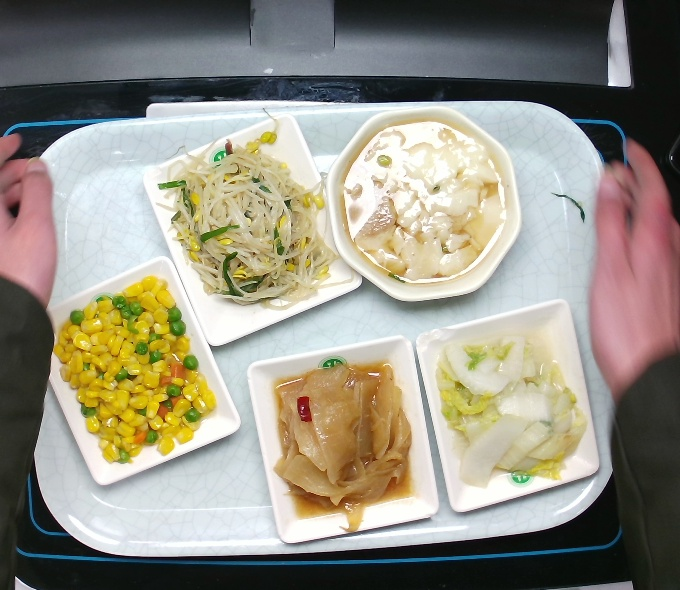wcq-DaBaiCai: (432, 331, 589, 490)
wcq-DongGua: (268, 359, 417, 536)
wcq-DouYa: (152, 106, 354, 313)
wcq-ShuiZhengDan: (340, 116, 511, 288)
wcq-TianMiTianDou: (51, 274, 220, 467)
